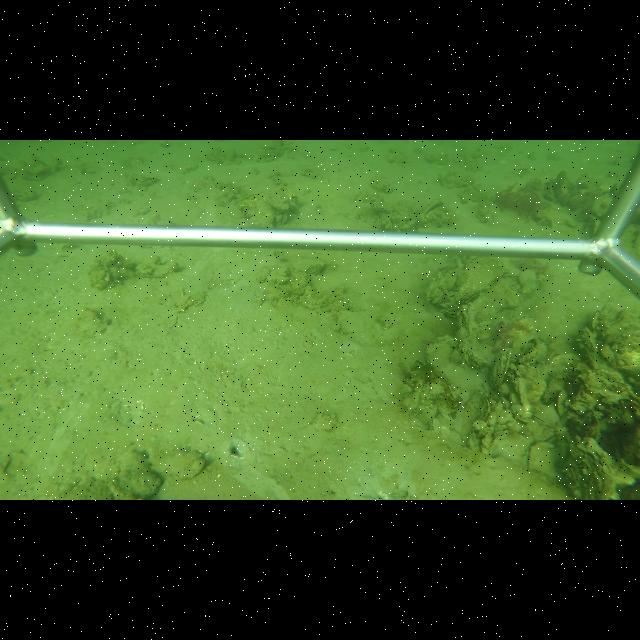Oyster-Closed: (425, 340, 492, 399), (567, 437, 622, 497), (454, 257, 507, 303), (120, 447, 164, 499), (455, 320, 499, 367), (524, 438, 564, 477), (235, 193, 276, 228), (574, 326, 600, 367), (492, 349, 511, 392), (548, 352, 582, 374), (267, 186, 294, 213)
Oyster-Open: (420, 199, 448, 222)
